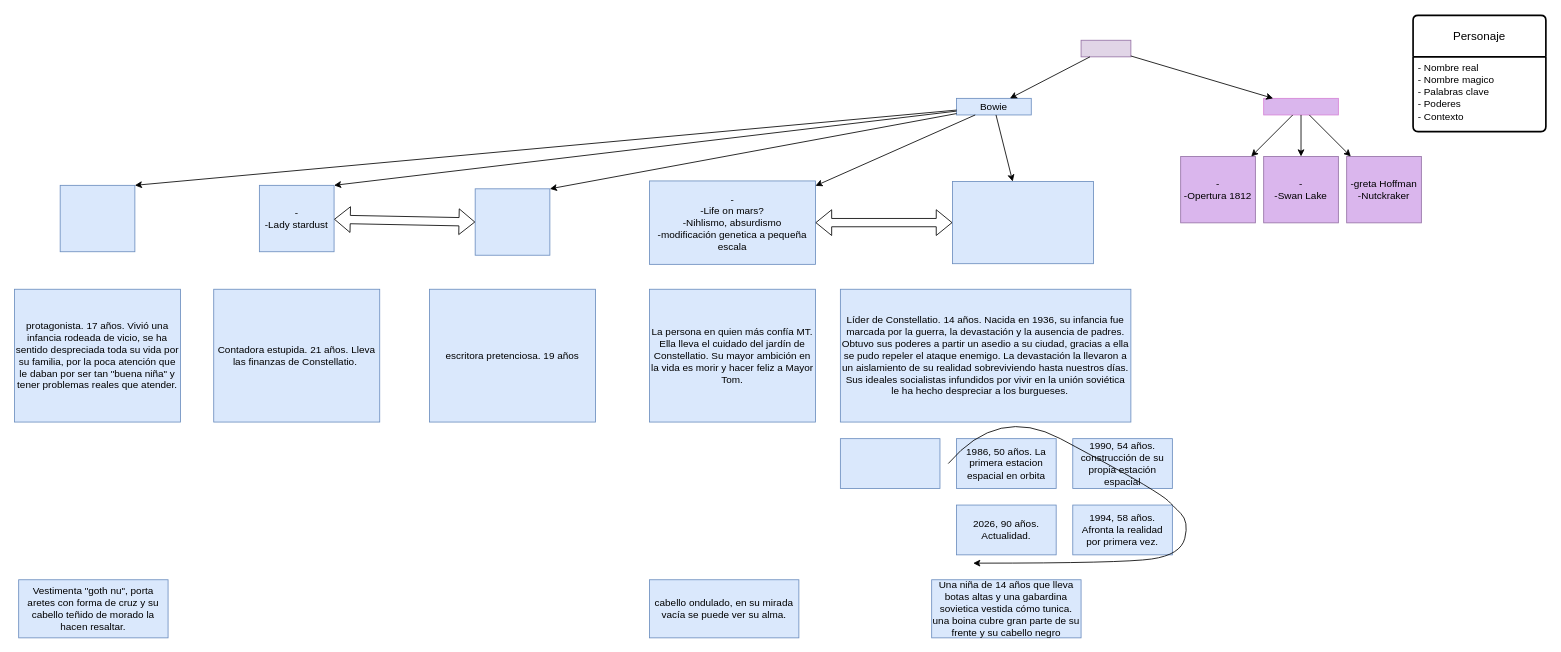
The diagram is 1561 pixels wide and 652 high, and some of its shapes have lost their labels. Each missing label, with the centre of its shape:
"- -Starwoman" goes at point (97, 218).
"- -Ziggy stardust" goes at point (512, 221).
"-Mayor Tom -Space oddity - -control de la gravedad, aceleración del tiempo" goes at point (1023, 222).
"1943, 7 años. Despiertan sus poderes" goes at point (890, 463).
"personajes" goes at point (1105, 48).
"trio tchaikovsky" goes at point (1300, 106).
